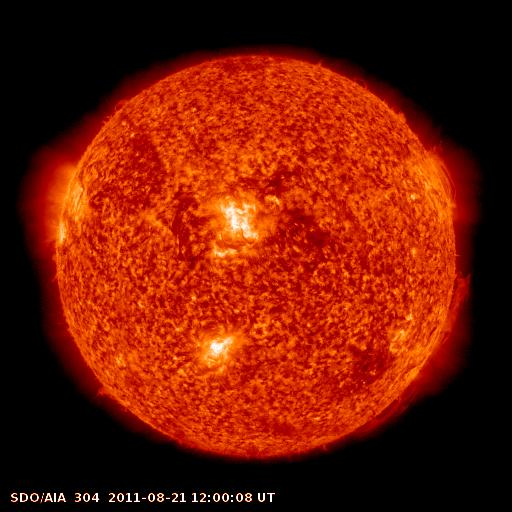prominence: (428, 269, 480, 354), (423, 138, 473, 209), (352, 389, 415, 442)
